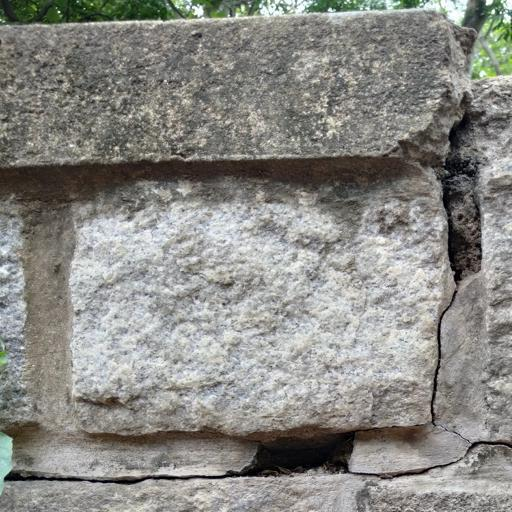major_crack: (0, 391, 511, 496), (371, 73, 494, 432)
